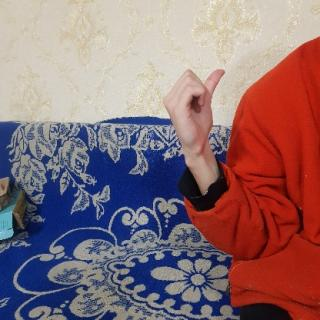WAW: (162, 63, 234, 164)
